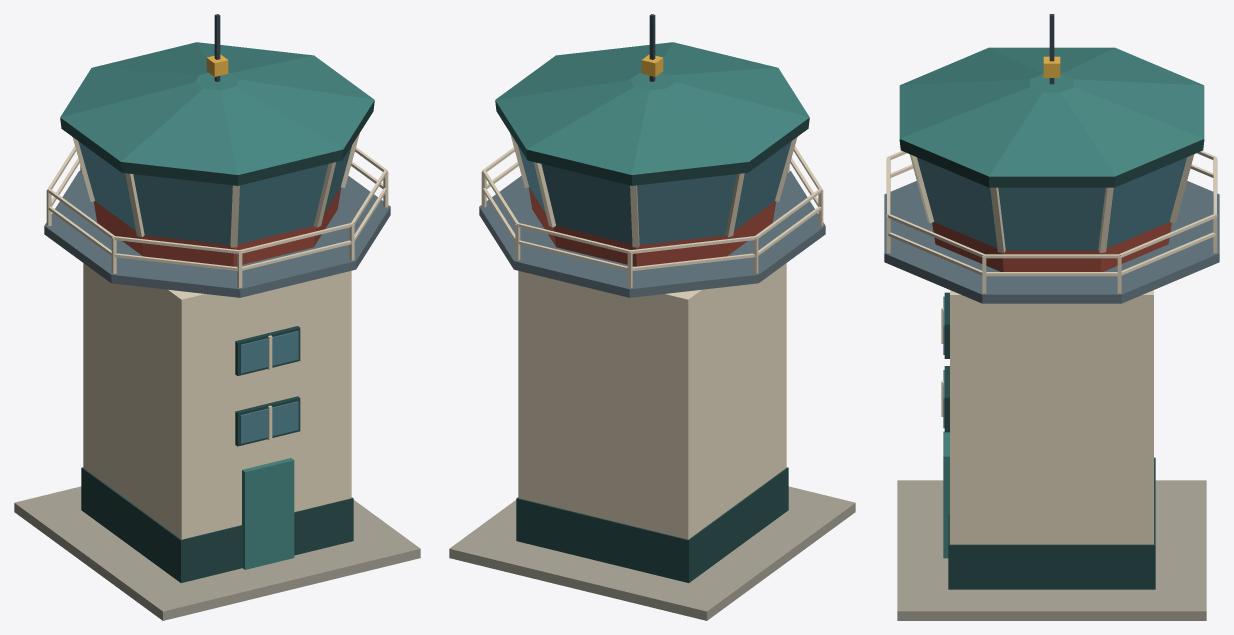
The model's file is control_tower.glb.
The picture shows the model from 3 angles, left to right: view 1: azimuth 30°, elevation 25°; view 2: azimuth 150°, elevation 25°; view 3: azimuth 270°, elevation 25°; orthographic projection. The views are drawn at different scales.
Parts seen in each view (by area): view 1: control_tower; view 2: control_tower; view 3: control_tower.
Boxes of the visible parts, box(x1,y1,x2,y2) form: control_tower: box(14, 14, 420, 620); control_tower: box(449, 14, 855, 620); control_tower: box(884, 14, 1219, 620).
Bounding box in the file's own units: 7.48 × 13.3 × 7.48.
